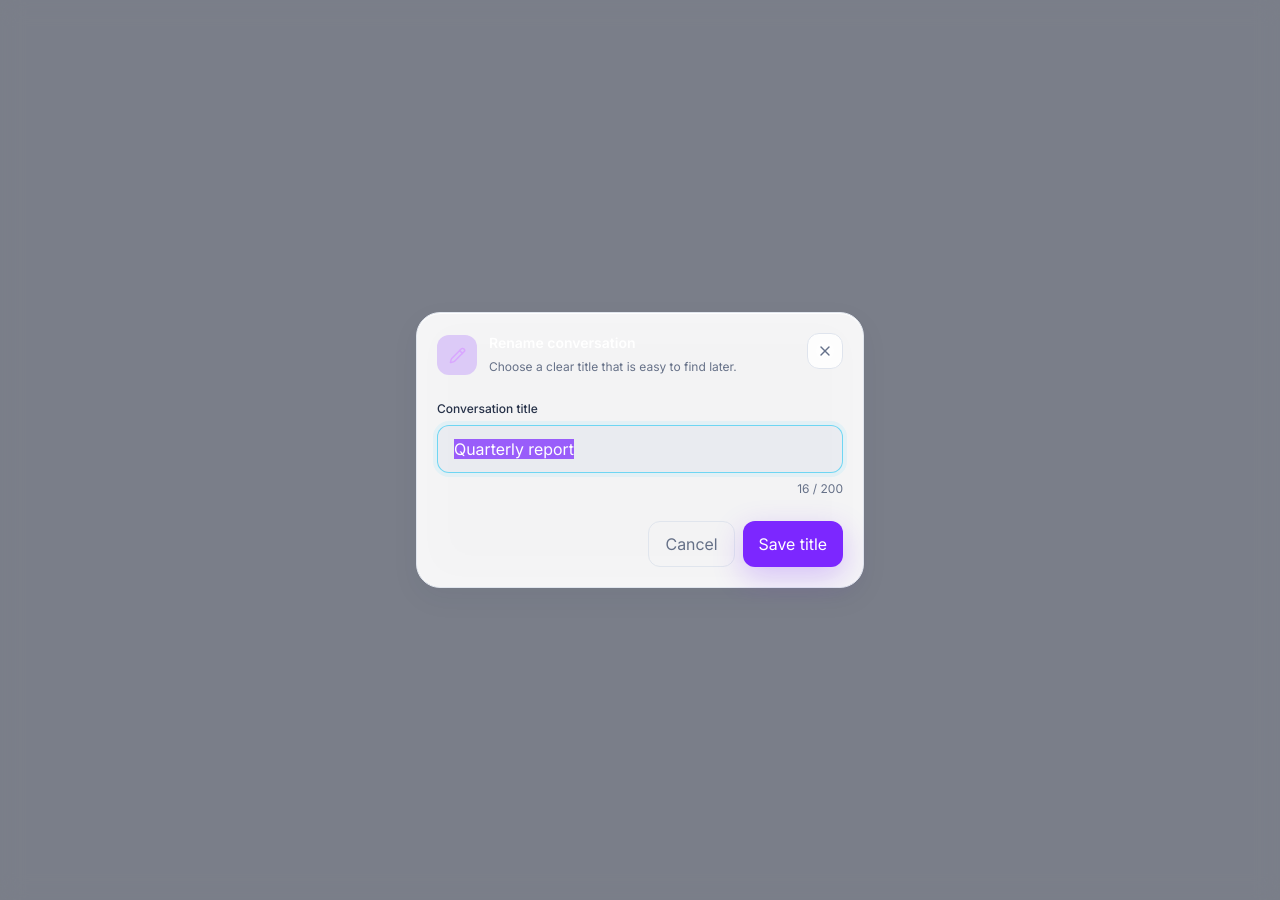
Test: RenameConversationDialog › keeps the dialog open and reports an API failure
Replace the text in the field labelled "Conversation title" with "Updated report" at (640, 449), box [437,425,843,473]
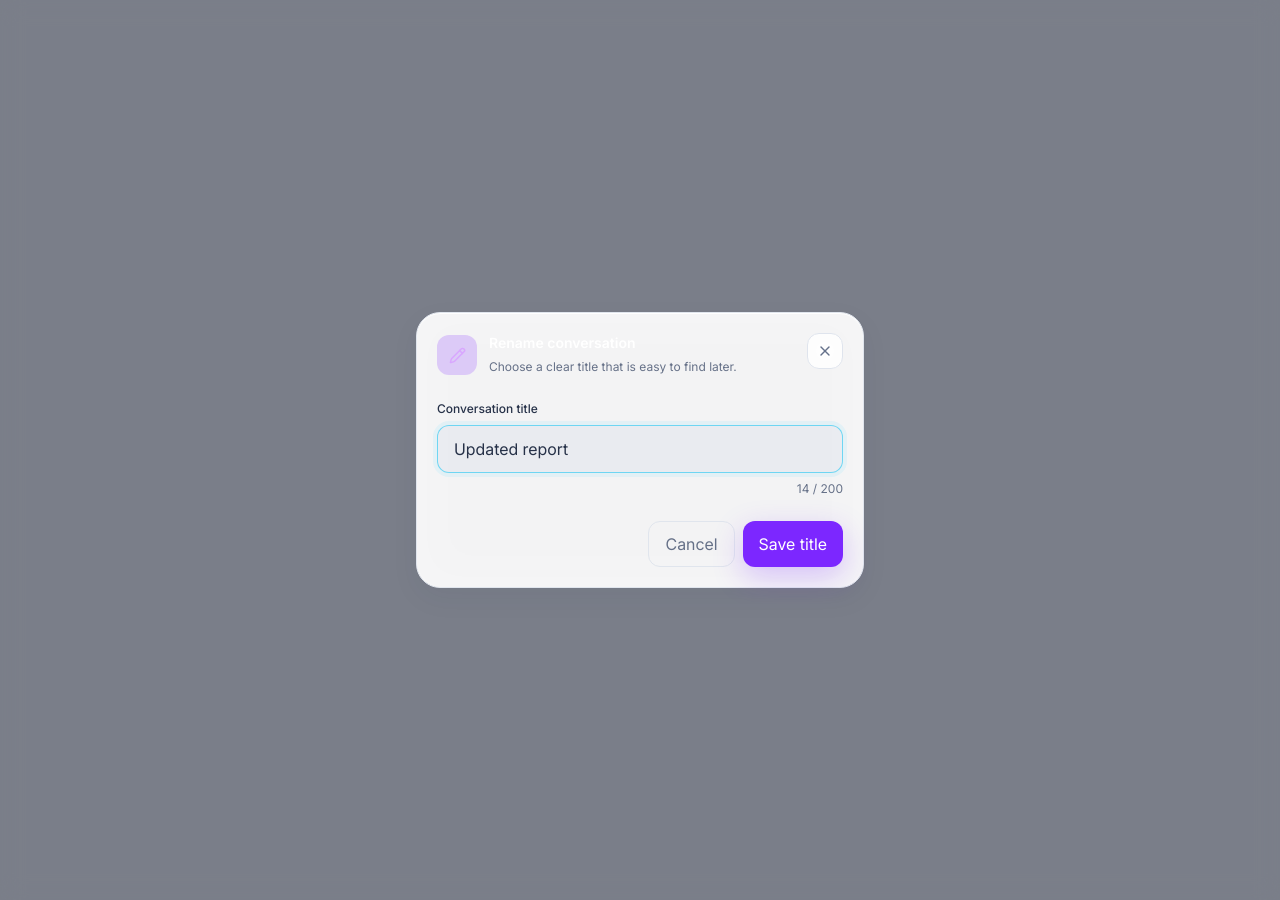
Click the button "Save title".
click(793, 544)  # box [742,521,843,567]
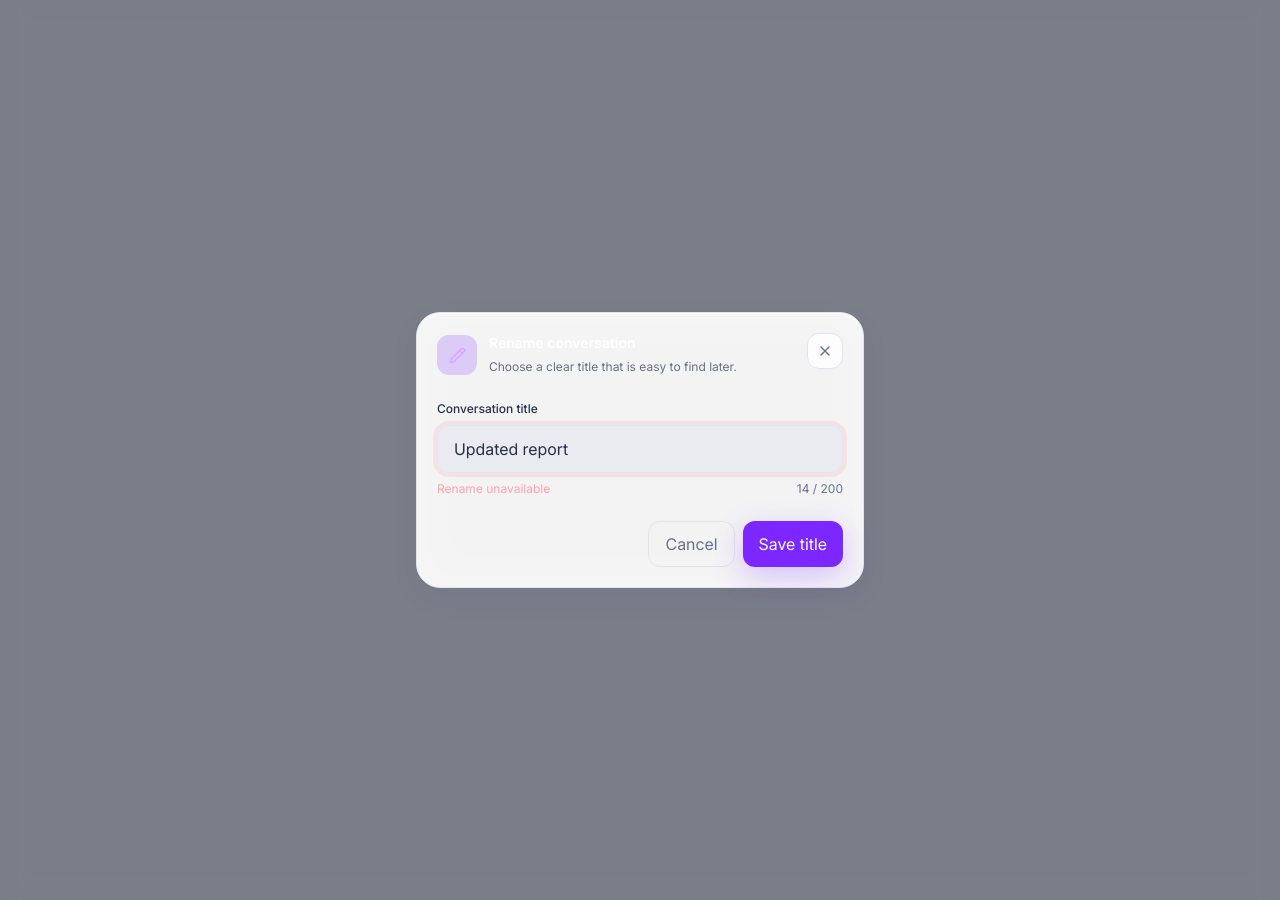
Expected: the dialog is shown, [416,312,864,588]
Now the message reads "Rename unavailable", box [437,481,550,496]
